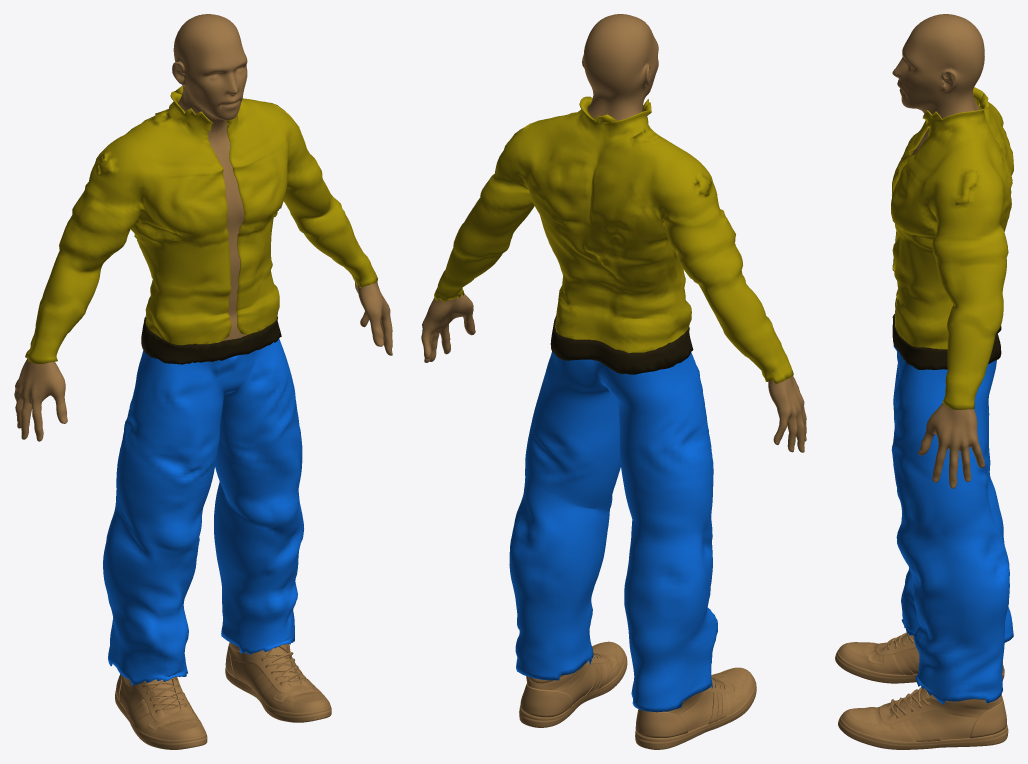
Rendered from DavidCombined.fbx.
3 views of the same model, side by side, from view 1: azimuth 30°, elevation 25°; view 2: azimuth 150°, elevation 25°; view 3: azimuth 270°, elevation 25° (orthographic).
Visible parts, largest first — view 1: uploads_files_4045809_FinalBaseMesh; view 2: uploads_files_4045809_FinalBaseMesh; view 3: uploads_files_4045809_FinalBaseMesh.
Part boxes in pixels (bbox=[...]): uploads_files_4045809_FinalBaseMesh: bbox=[14, 14, 392, 749]; uploads_files_4045809_FinalBaseMesh: bbox=[421, 14, 806, 749]; uploads_files_4045809_FinalBaseMesh: bbox=[835, 14, 1013, 749].
Bounding box in the file's own units: 1169 × 2084 × 489.
